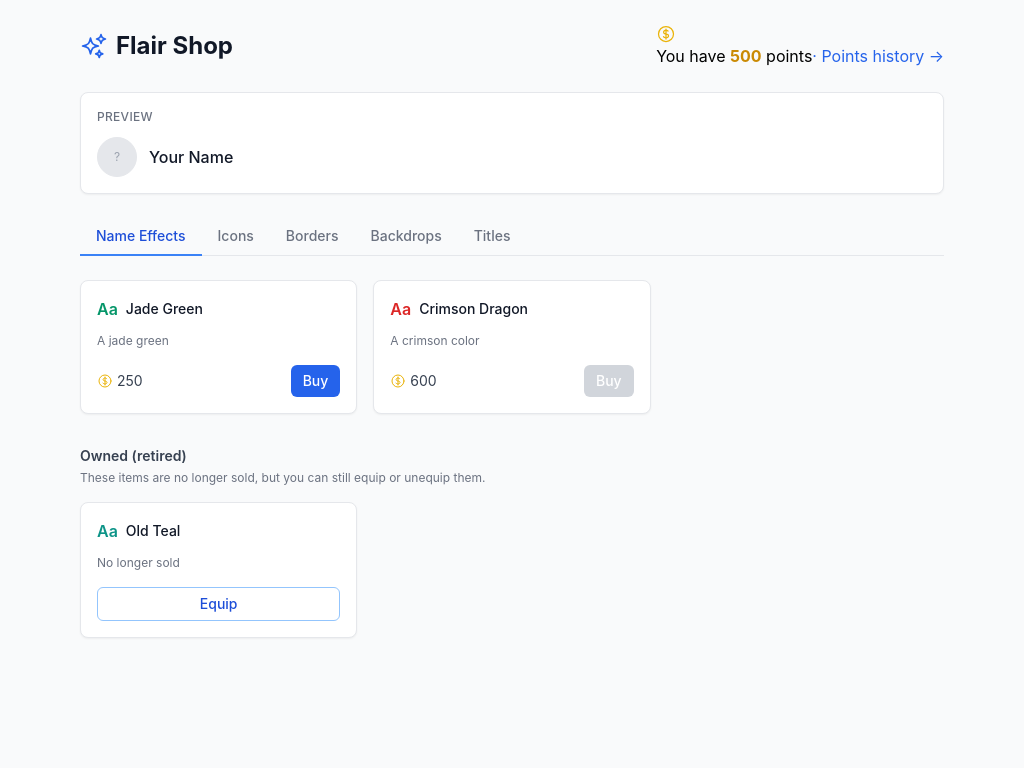
it: Shop page › retired items › equips a retired item by id
Click the button "Equip" at (219, 604), box x1=97 y1=587 x2=340 y2=621
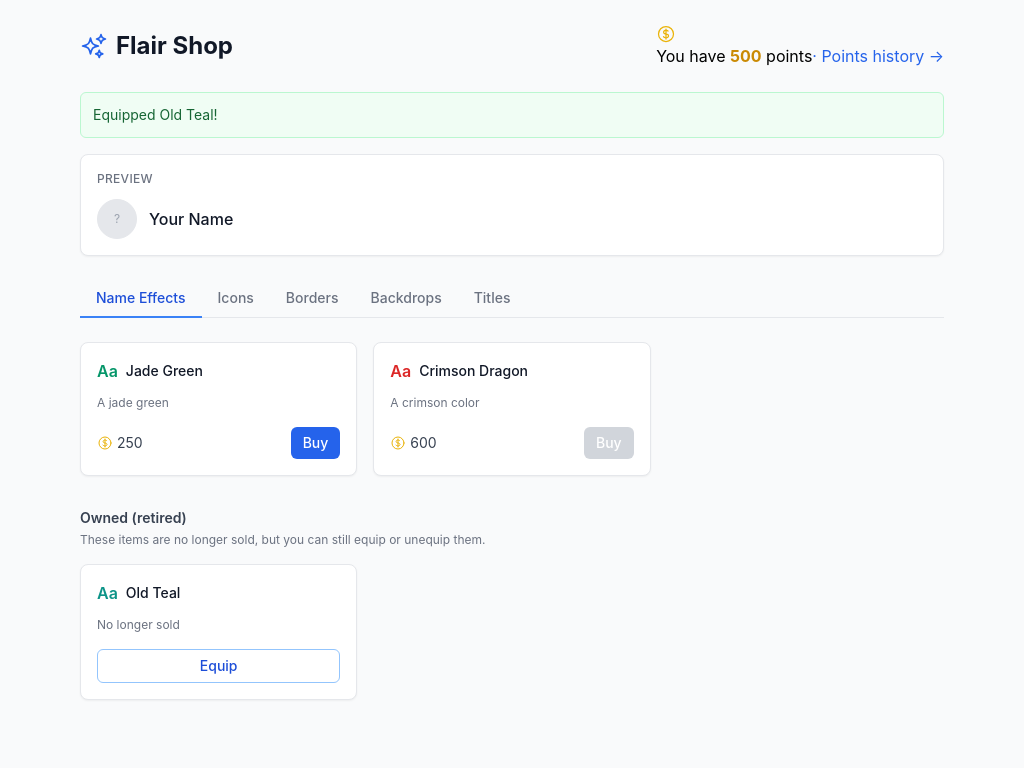
Now the text "Equipped Old Teal!" is shown, box x1=80 y1=92 x2=944 y2=138
